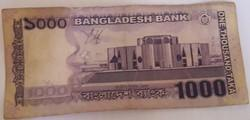1000 taka: (5, 11, 243, 100)
